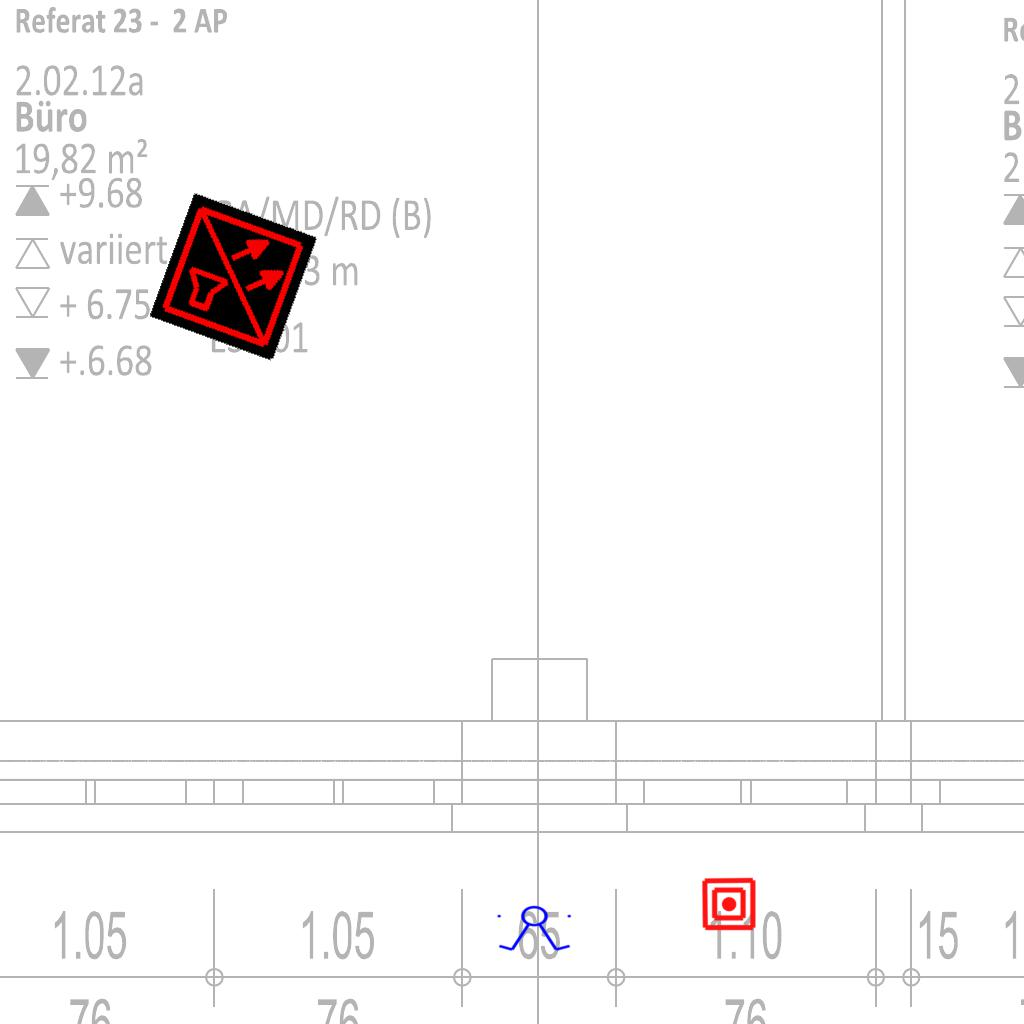NAM-Nichtautomatischer_Melder: (701, 876, 757, 932)
OKW_Multisensormelder_(Kombination_optischer_Rauch-Kahlenmonoxid_Waerme-Melder): (149, 192, 319, 362)
Serienschalter: (493, 905, 577, 953)
